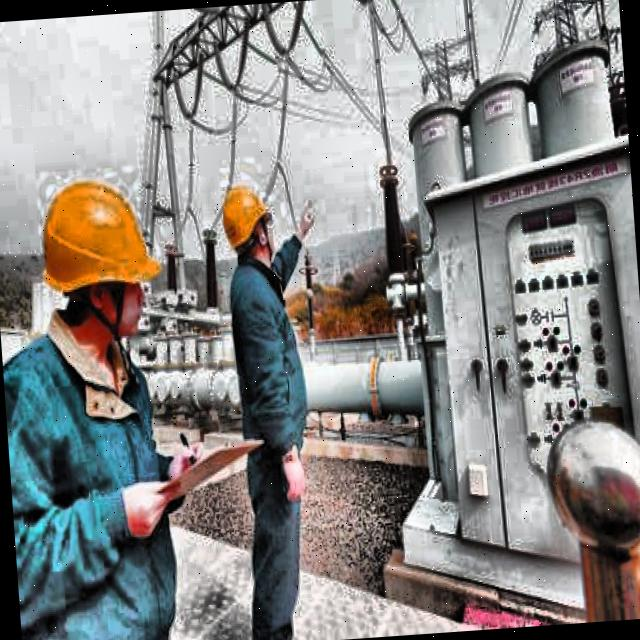helmet: (26, 158, 165, 364), (215, 172, 278, 270)
